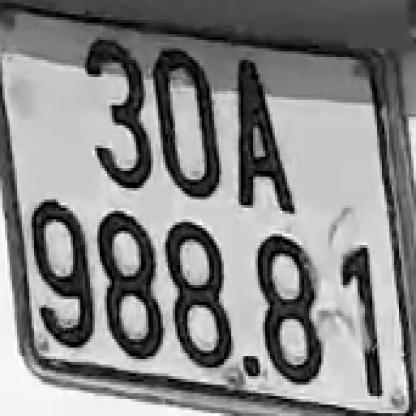0: (156, 52, 221, 202)
1: (336, 245, 384, 396)
3: (85, 40, 156, 199)
8: (260, 234, 316, 379), (173, 219, 226, 365), (102, 214, 156, 356)
9: (34, 199, 90, 345)
A: (236, 60, 294, 211)
